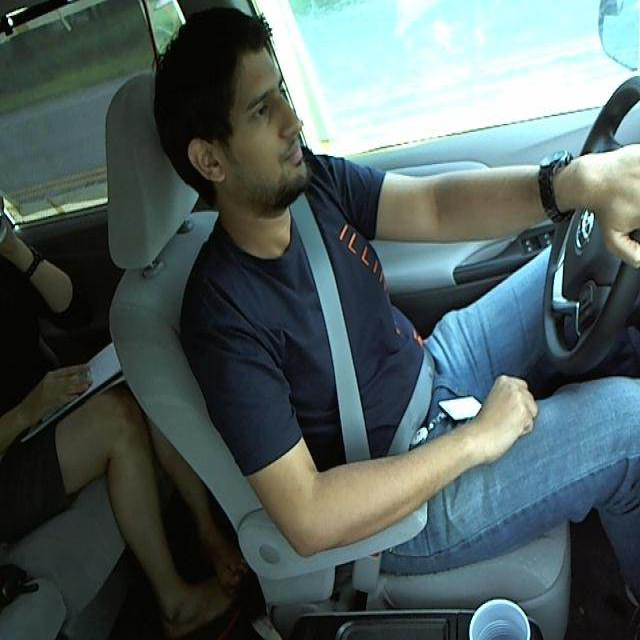seatbelt: (290, 212, 391, 453)
